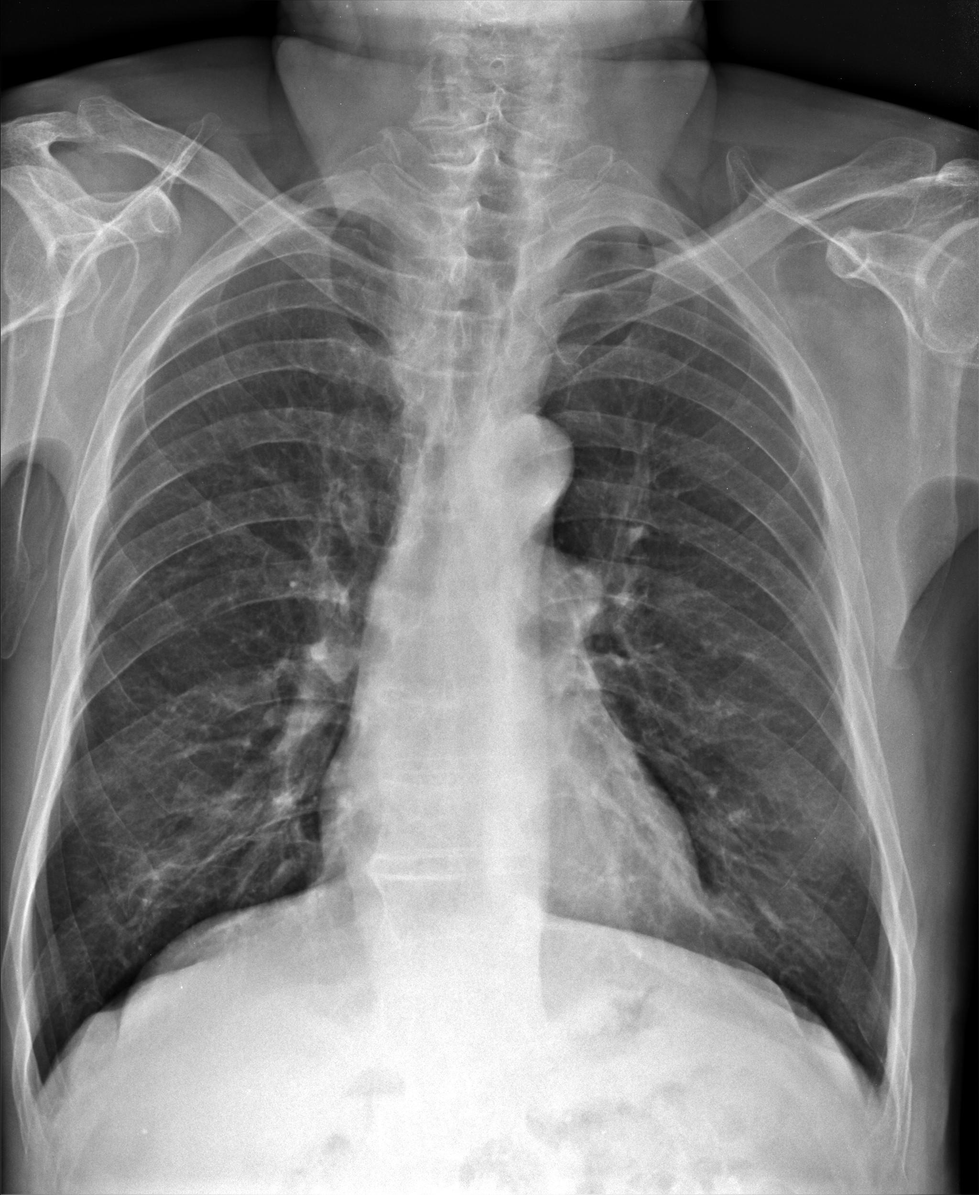Aortic enlargement: (470, 411, 576, 523)
